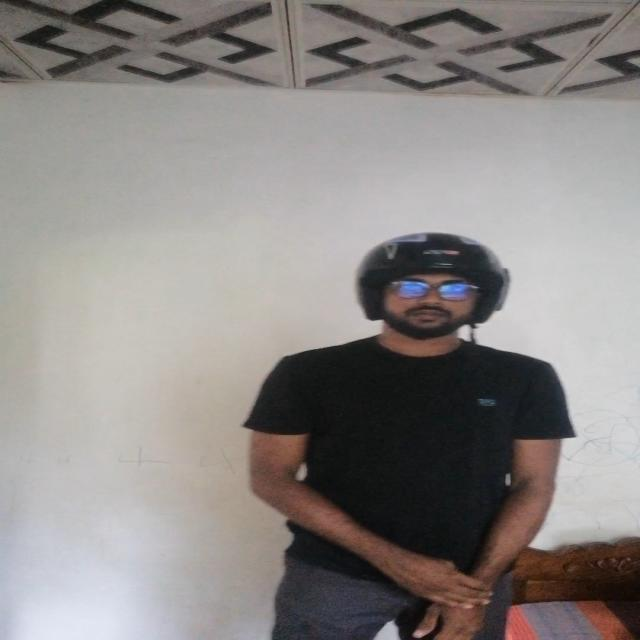Helmet_Wearer: (342, 224, 514, 372)
Person: (253, 236, 572, 640)
